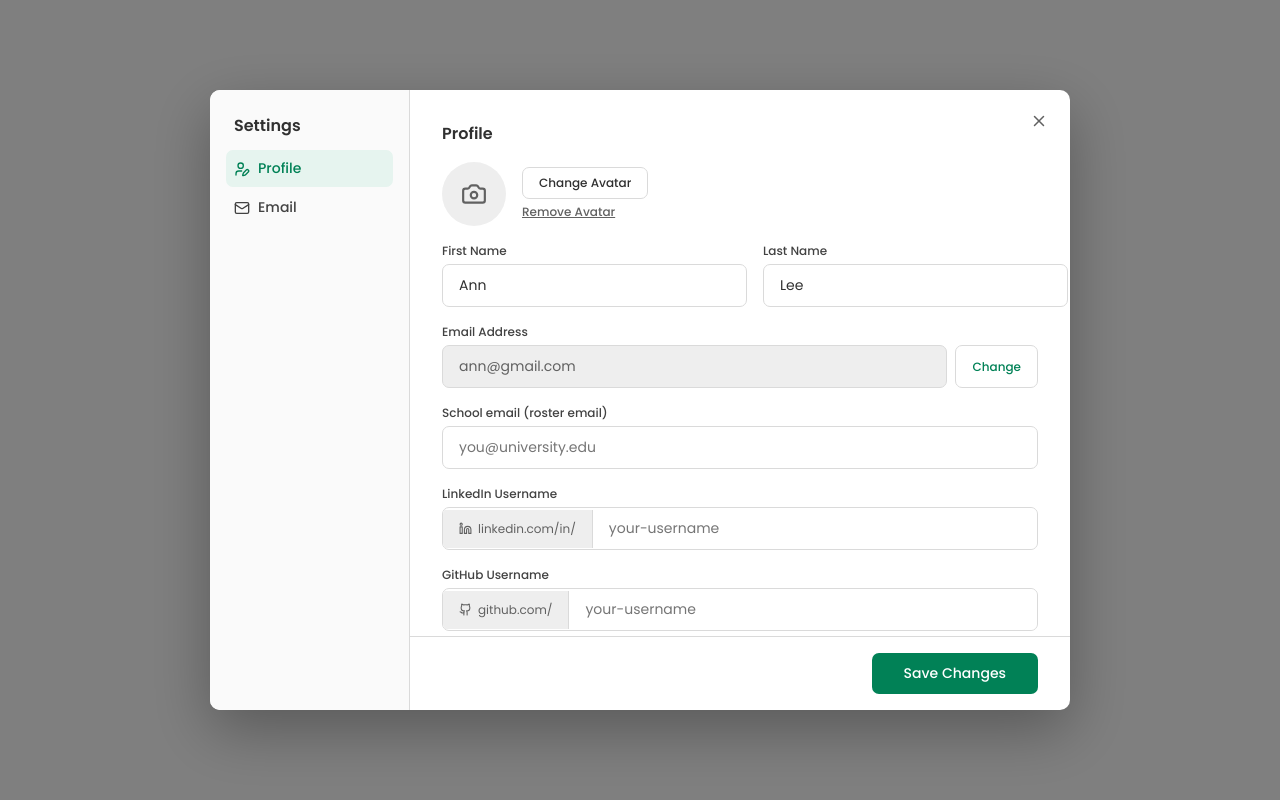
Test: Settings — Email › the section › marks Email as the current section and leaves out the profile form and its Save button
Click the button "Email": (310, 208) [226,189,393,226]
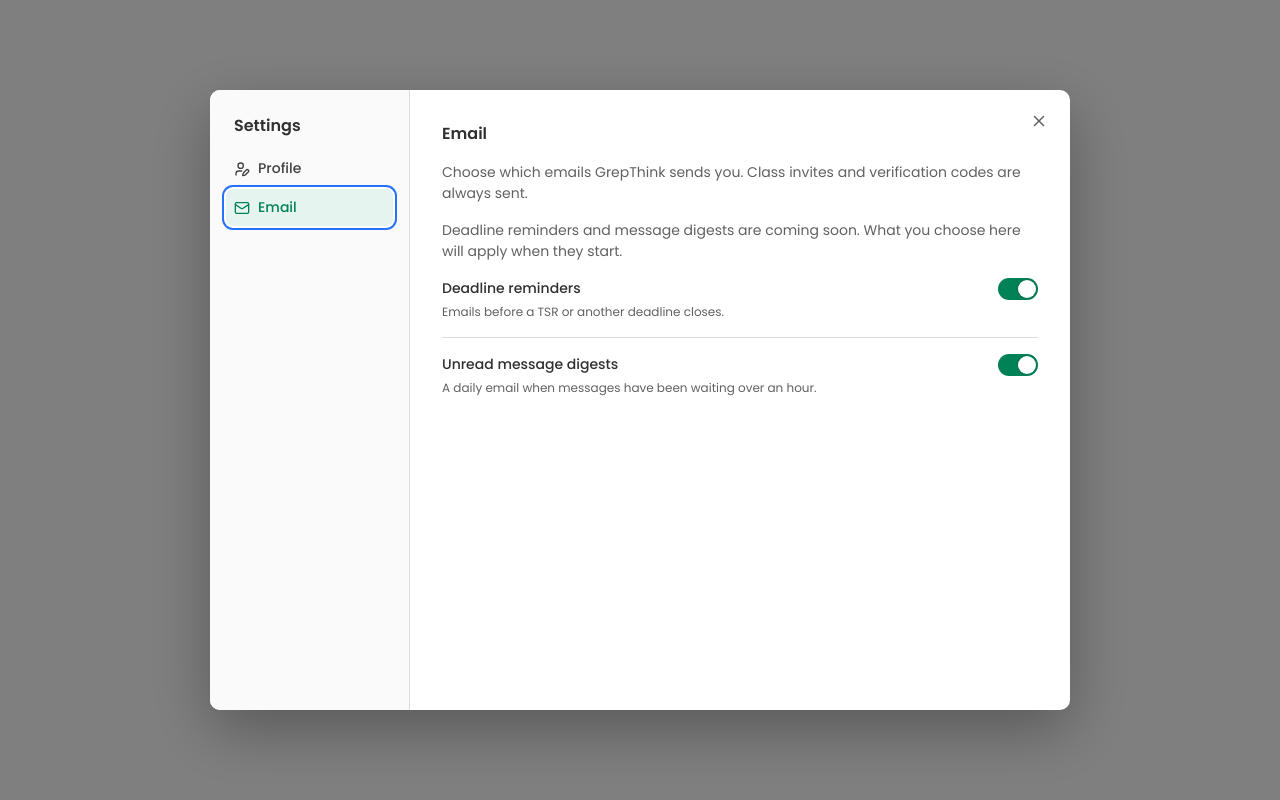
expect the switch labelled "Deadline reminders" is shown: met, box [998,278,1038,300]
expect the button "Save" is gone: met
expect the label labelled "First Name" is gone: met
